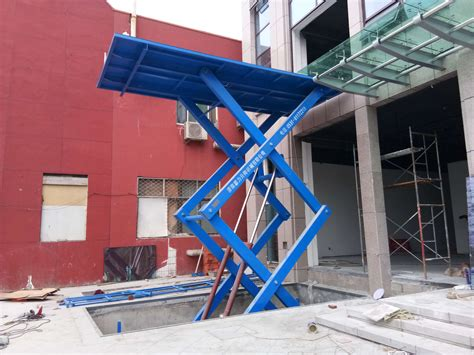Scissor Lift: (96, 32, 343, 314)
